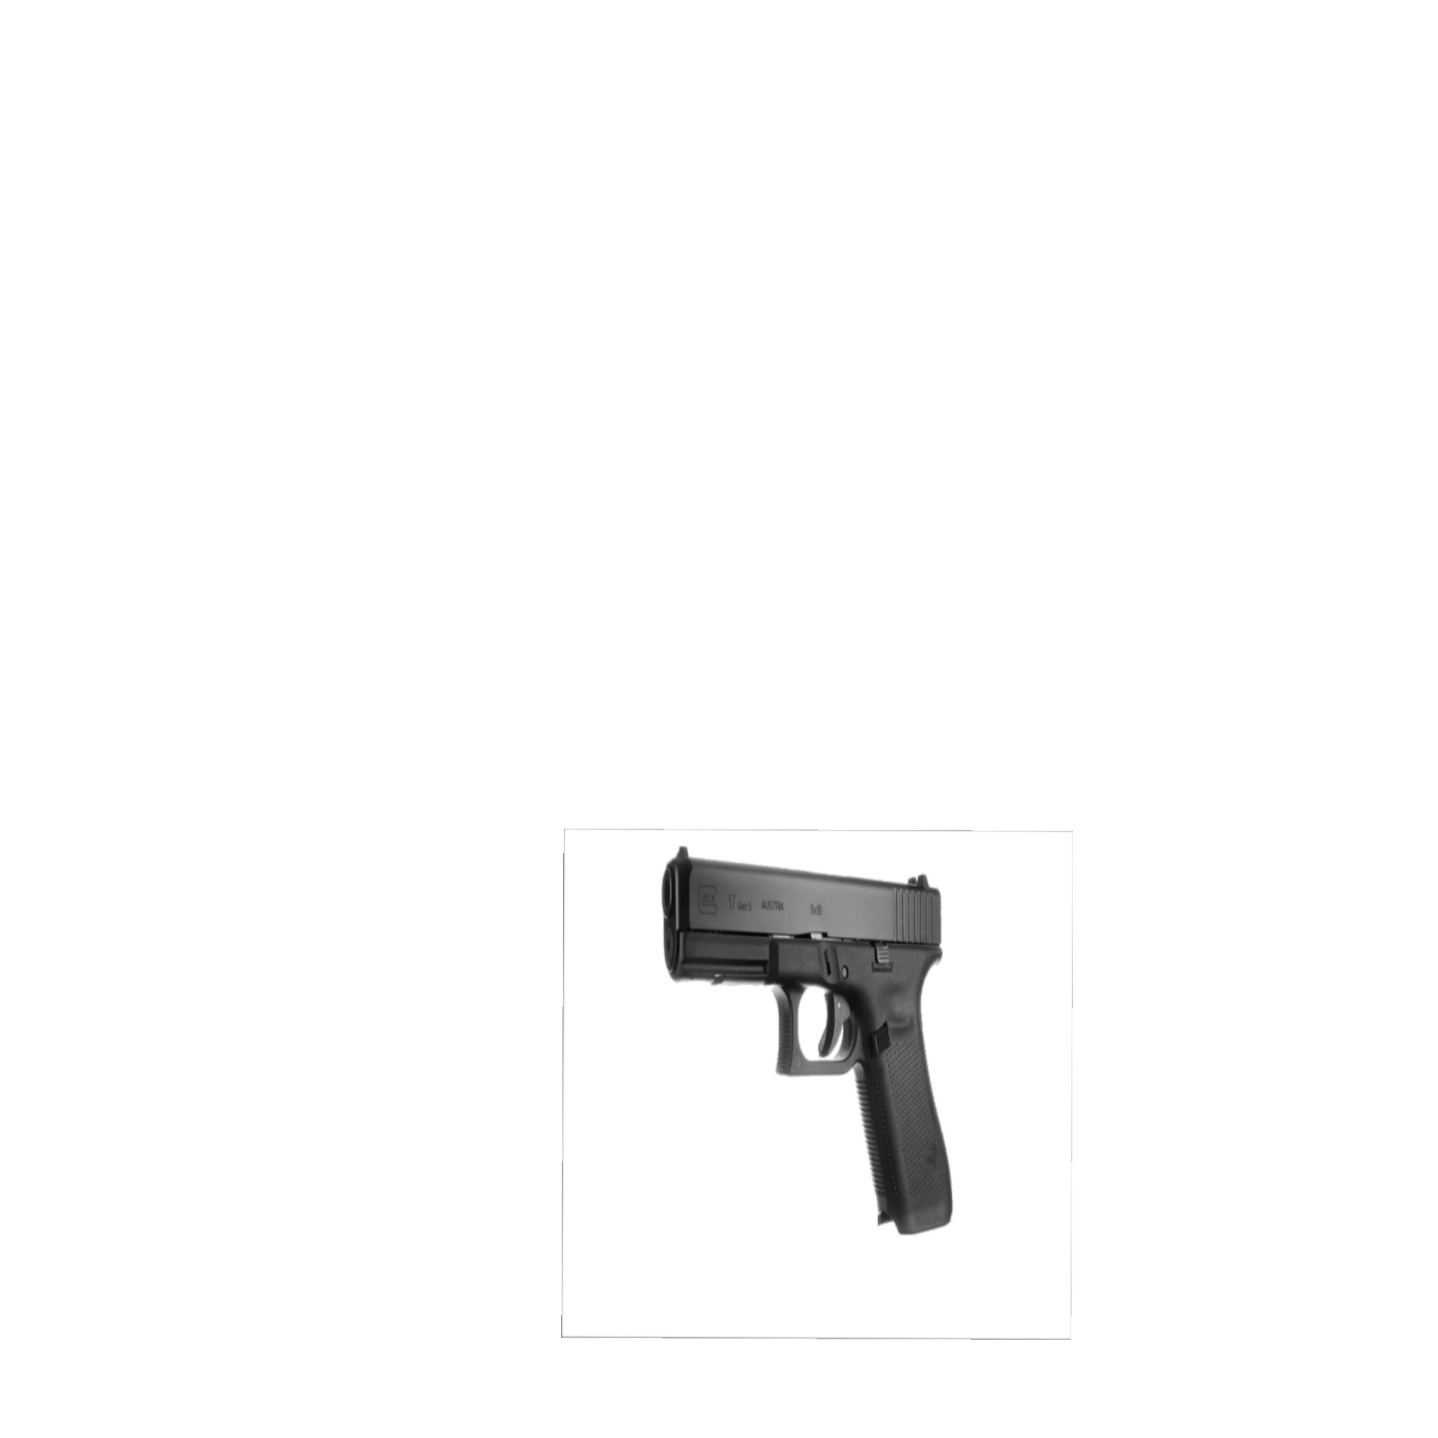gun: (644, 838, 972, 1238)
